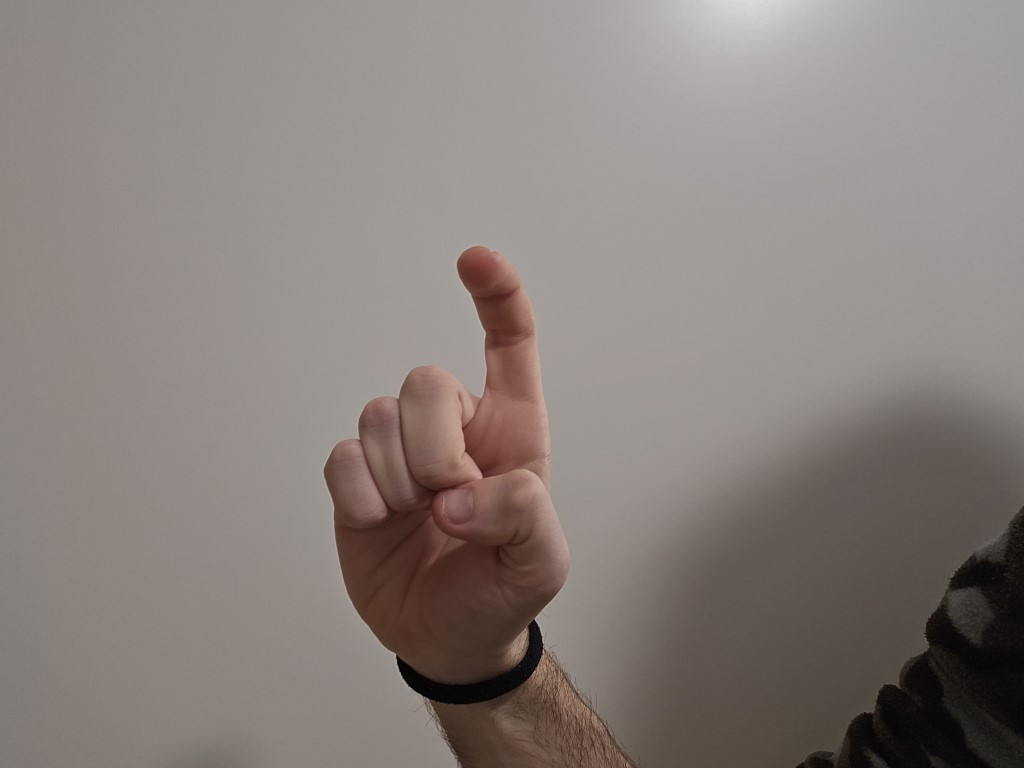x: (288, 221, 586, 650)
